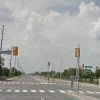crosswalk: (0, 89, 99, 93), (0, 81, 55, 84)
